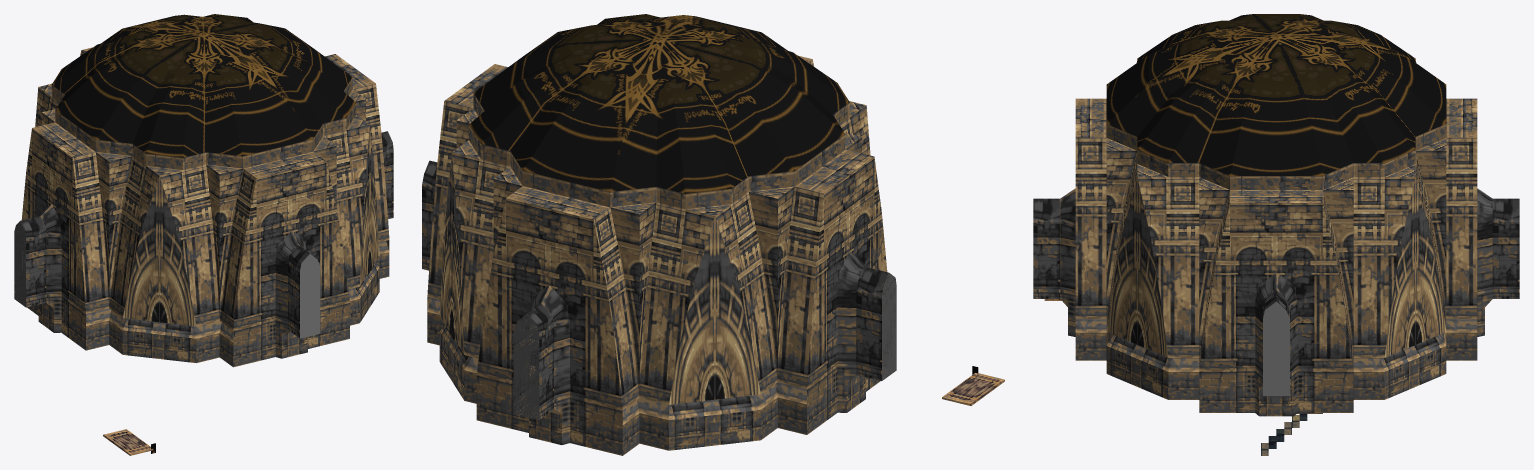
File: MAP100.obj
The picture shows the model from 3 angles, left to right: view 1: azimuth 30°, elevation 25°; view 2: azimuth 150°, elevation 25°; view 3: azimuth 270°, elevation 25°; orthographic projection. The views are drawn at different scales.
Parts seen in each view (by area): view 1: mesh_68, mesh_82, mesh_112, mesh_108, mesh_92, mesh_69, mesh_104, mesh_103, mesh_111, mesh_101, mesh_106, mesh_102 (+7 smaller); view 2: mesh_68, mesh_77, mesh_110, mesh_107, mesh_92, mesh_69, mesh_98, mesh_97, mesh_109, mesh_99, mesh_105, mesh_100 (+7 smaller); view 3: mesh_68, mesh_87, mesh_109, mesh_111, mesh_69, mesh_105, mesh_106, mesh_100, mesh_102, mesh_99, mesh_101, mesh_77 (+6 smaller).
Boxes of the visible parts, <box> form: mesh_68: <box>52,14,355,157</box>; mesh_82: <box>233,161,349,367</box>; mesh_112: <box>183,164,256,366</box>; mesh_108: <box>72,152,145,354</box>; mesh_92: <box>14,128,85,350</box>; mesh_69: <box>32,47,375,178</box>; mesh_104: <box>123,176,196,326</box>; mesh_103: <box>122,166,196,362</box>; mesh_111: <box>313,130,359,325</box>; mesh_101: <box>346,124,379,322</box>; mesh_106: <box>353,83,389,278</box>; mesh_102: <box>360,126,379,285</box>; mesh_68: <box>469,14,849,193</box>; mesh_77: <box>476,198,622,455</box>; mesh_110: <box>593,202,685,455</box>; mesh_107: <box>732,186,823,439</box>; mesh_92: <box>807,156,895,434</box>; mesh_69: <box>444,55,873,219</box>; mesh_98: <box>669,217,760,404</box>; mesh_97: <box>669,204,760,450</box>; mesh_109: <box>464,159,522,403</box>; mesh_99: <box>439,152,481,400</box>; mesh_105: <box>427,101,472,345</box>; mesh_100: <box>439,153,464,354</box>; mesh_68: <box>1106,14,1446,175</box>; mesh_87: <box>1199,203,1353,416</box>; mesh_109: <box>1415,137,1477,360</box>; mesh_111: <box>1075,137,1137,360</box>; mesh_69: <box>1075,98,1477,202</box>; mesh_105: <box>1323,177,1384,399</box>; mesh_106: <box>1168,177,1229,399</box>; mesh_100: <box>1384,177,1446,357</box>; mesh_102: <box>1106,177,1168,357</box>; mesh_99: <box>1381,165,1446,399</box>; mesh_101: <box>1106,165,1171,399</box>; mesh_77: <box>1477,222,1519,336</box>.
Size of the model in its own units: 202 by 162 by 202.
Materials: 13 (13 with a texture image).
